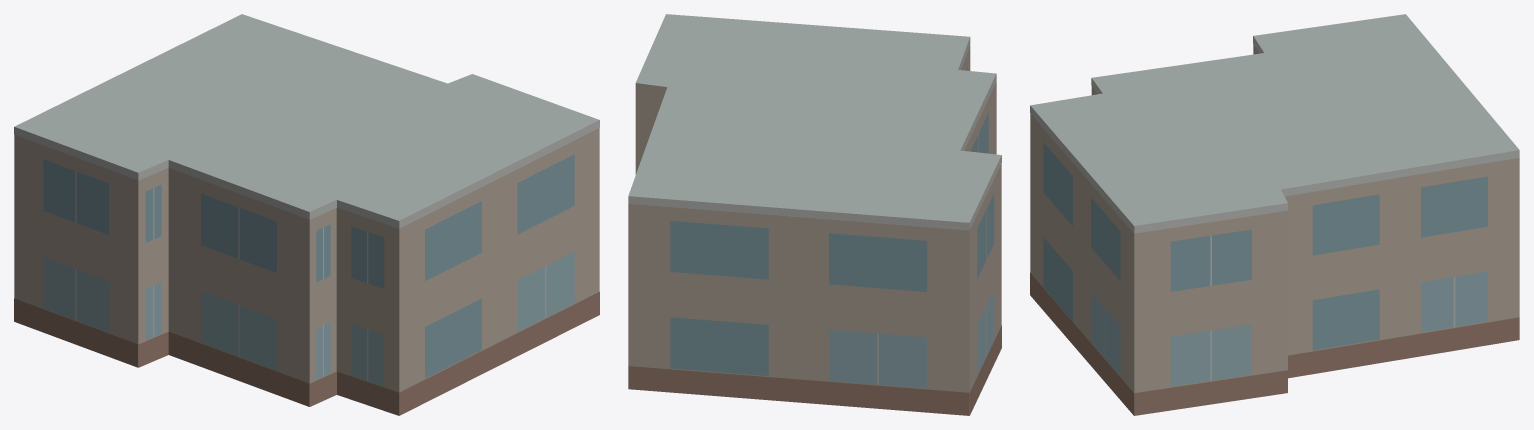
File: survey-upis-32669998.glb
3 views of the same model, side by side, from view 1: azimuth 30°, elevation 25°; view 2: azimuth 150°, elevation 25°; view 3: azimuth 270°, elevation 25° (orthographic). The views are drawn at different scales.
Visible parts, largest first — view 1: survey-upis-32669998.tmp; view 2: survey-upis-32669998.tmp; view 3: survey-upis-32669998.tmp.
Boxes of the visible parts, x1,y1,x2,y2 form: survey-upis-32669998.tmp: [14, 14, 599, 415]; survey-upis-32669998.tmp: [628, 14, 1001, 415]; survey-upis-32669998.tmp: [1030, 14, 1519, 415].
Bounding box in the file's own units: 14.62 × 6.1 × 14.27.
